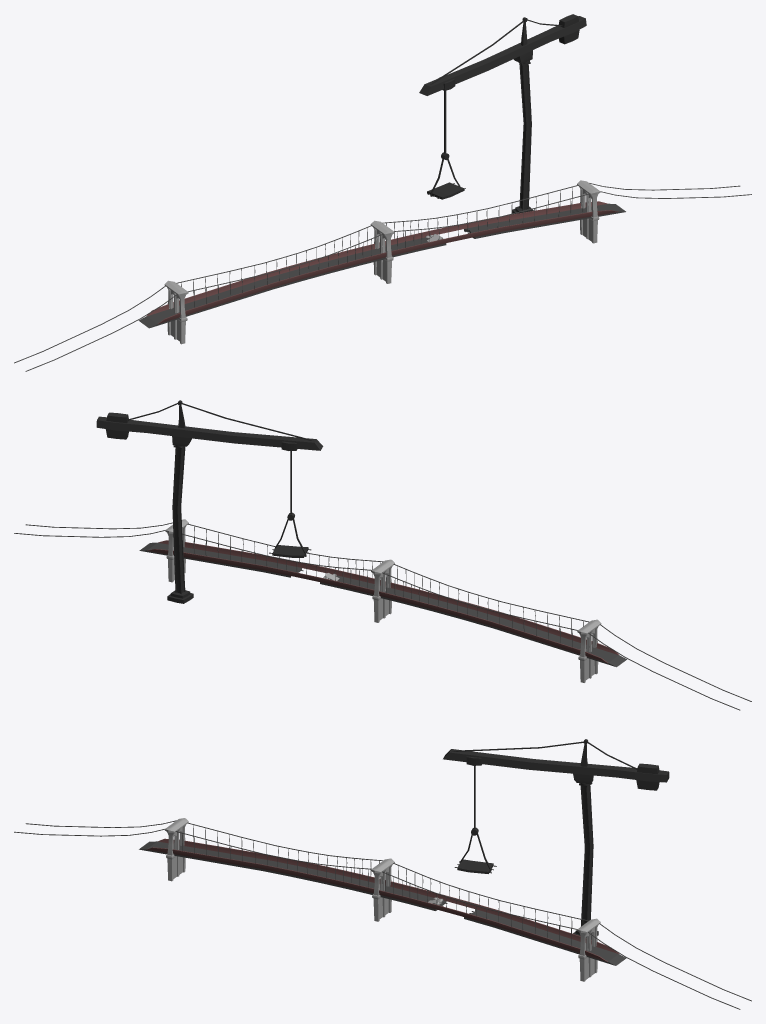
Rendered from Bridge.fbx.
3 views of the same model, one above another, from view 1: azimuth 30°, elevation 25°; view 2: azimuth 150°, elevation 25°; view 3: azimuth 330°, elevation 25° (orthographic).
Visible parts, largest first — view 1: Railing1, Road2, Cables, Top, WallsBridge, BaseShaft; view 2: Railing1, Road2, Top, Cables, WallsBridge, BaseShaft; view 3: Railing1, Road2, Top, Cables, WallsBridge, BaseShaft, Pulley.
Boxes of the visible parts, <box> form: Railing1: <box>146,201,618,324</box>; Road2: <box>138,203,625,328</box>; Cables: <box>14,183,751,371</box>; Top: <box>419,14,586,95</box>; WallsBridge: <box>164,180,600,344</box>; BaseShaft: <box>511,62,533,214</box>; Railing1: <box>147,540,618,663</box>; Road2: <box>139,542,626,667</box>; Top: <box>96,400,323,450</box>; Cables: <box>14,522,751,710</box>; WallsBridge: <box>165,519,601,682</box>; BaseShaft: <box>167,445,193,603</box>; Railing1: <box>147,838,618,961</box>; Road2: <box>139,841,626,965</box>; Top: <box>443,739,669,790</box>; Cables: <box>14,820,751,1009</box>; WallsBridge: <box>164,818,600,981</box>; BaseShaft: <box>573,783,598,939</box>; Pulley: <box>459,756,491,871</box>.
Bounding box in the file's own units: 315 × 85.8 × 40.34.
